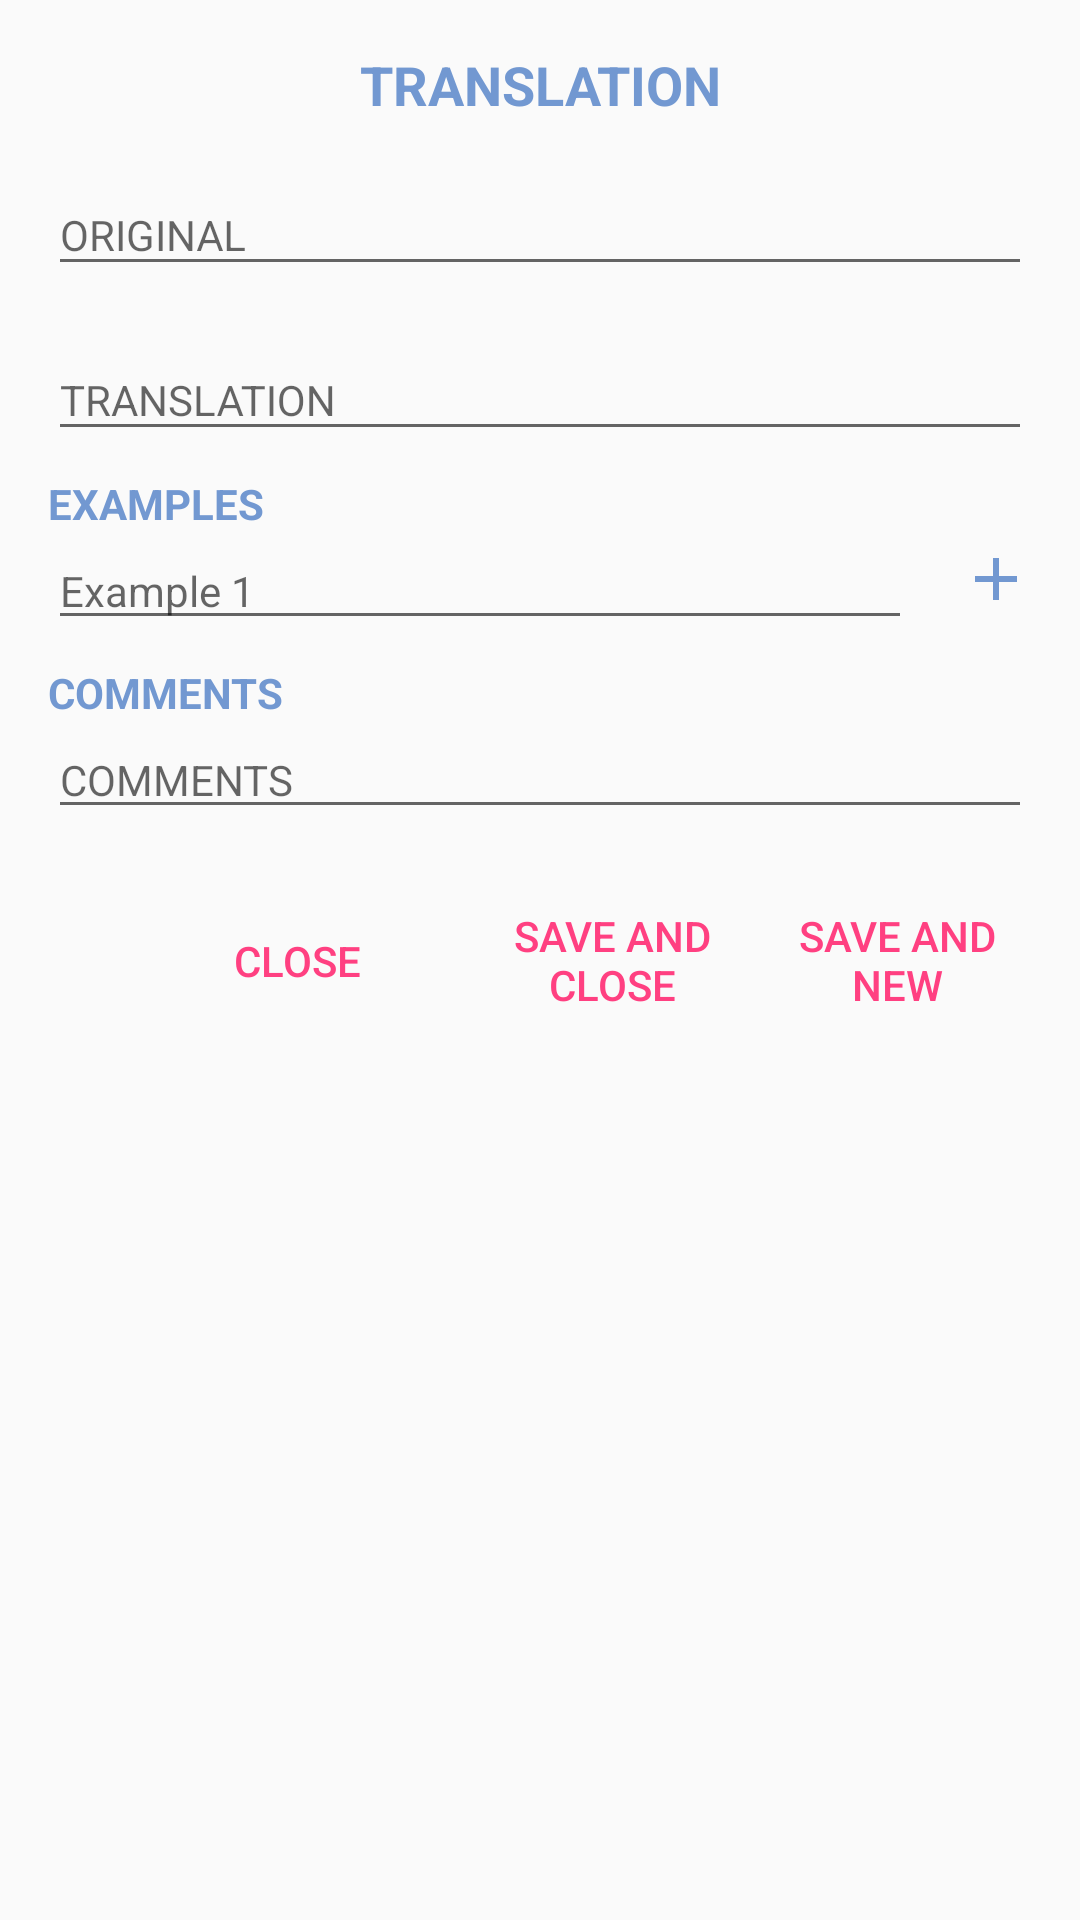

Icon bounding boxes for this 1080 x 1920 phone screenshot, format (x1, y1, x2, y2):
add: (975, 558, 1017, 600)
